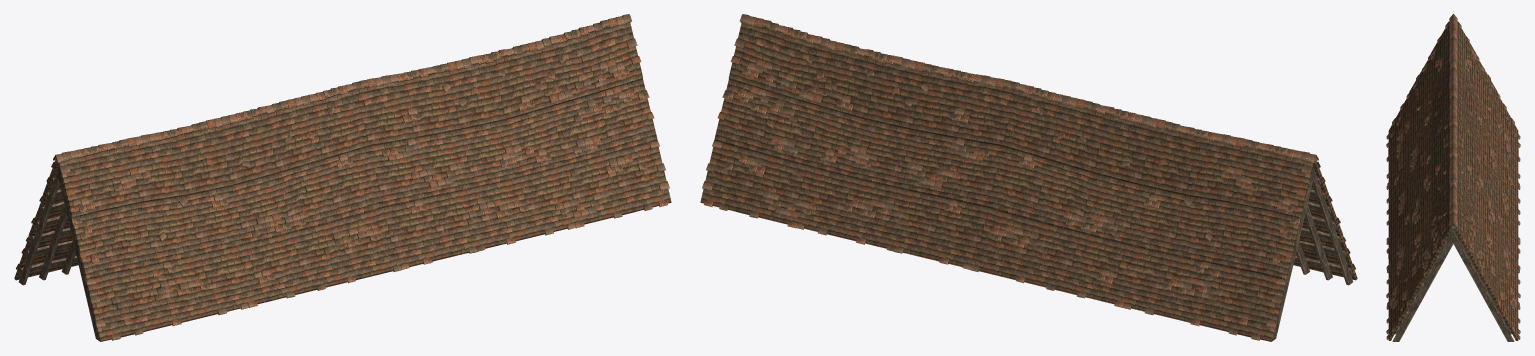
The picture shows the model from 3 angles, left to right: view 1: azimuth 30°, elevation 25°; view 2: azimuth 150°, elevation 25°; view 3: azimuth 270°, elevation 25°; orthographic projection. The views are drawn at different scales.
Parts seen in each view (by area): view 1: SM_DeathTemple_Roof_Dmg_03_v1_LOD0; view 2: SM_DeathTemple_Roof_Dmg_03_v1_LOD0; view 3: SM_DeathTemple_Roof_Dmg_03_v1_LOD0.
Part boxes in pixels (left/top/right/bottom): SM_DeathTemple_Roof_Dmg_03_v1_LOD0: left=14, top=14, right=671, bottom=341; SM_DeathTemple_Roof_Dmg_03_v1_LOD0: left=700, top=14, right=1357, bottom=341; SM_DeathTemple_Roof_Dmg_03_v1_LOD0: left=1386, top=14, right=1520, bottom=341.
Bounding box in the file's own units: 50.39 × 13.36 × 13.58.
Materials: 2 (2 with a texture image).
